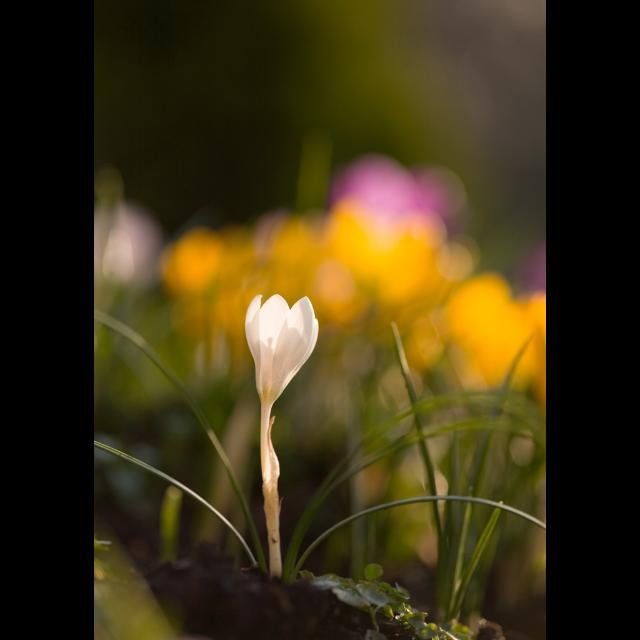Flower: (244, 299, 322, 447)
